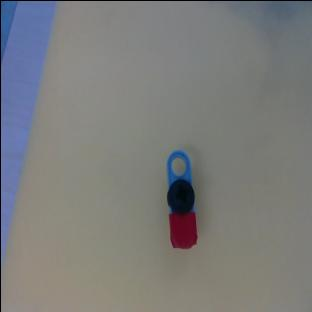part_1_good: (162, 149, 197, 249)
